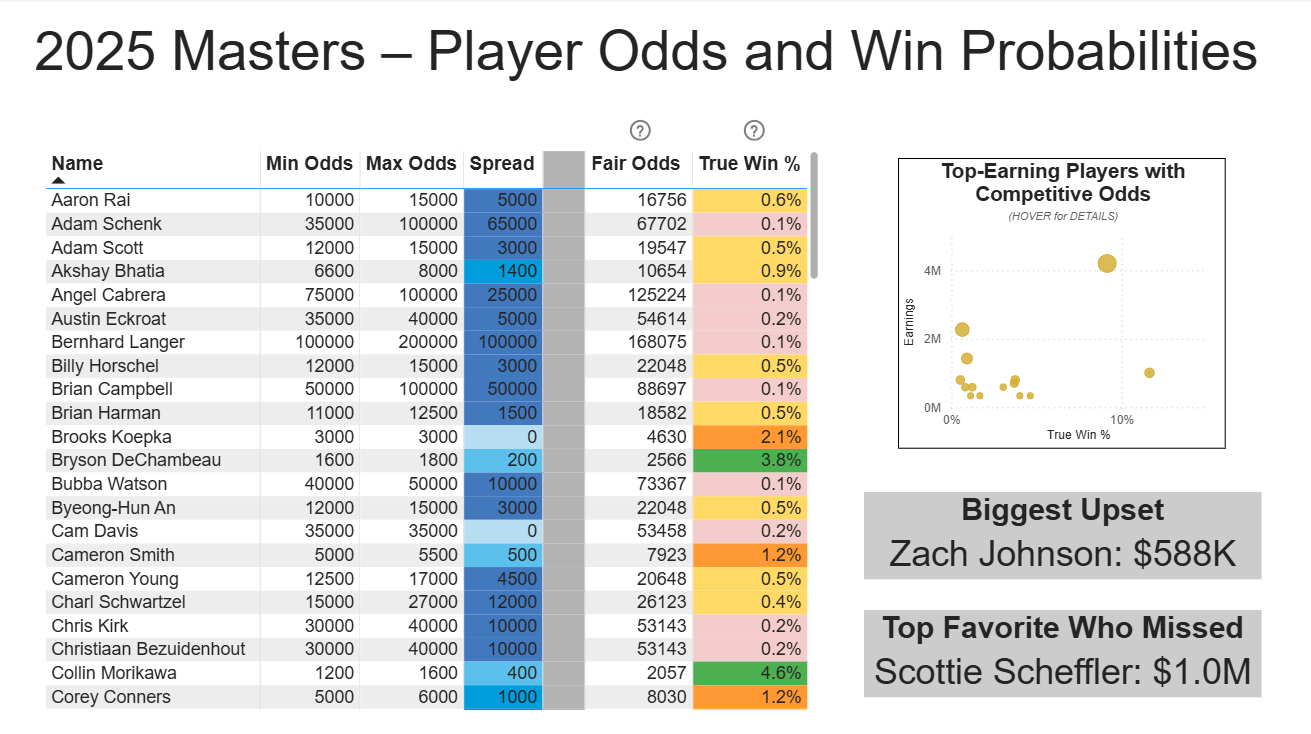

What the dashboard file says about the page in this screenshot:
{"tool":"powerbi","page":{"name":"Odds","canvas":[1280,720],"ordinal":0},"visuals":[{"type":"tableEx","fields":{"Values":["Dim_Players.Name","Fact_Odds_Masters2025.MinOdds","Fact_Odds_Masters2025.MaxOdds","Fact_Odds_Masters2025.OddsSpread","Fact_Odds_Masters2025.Spacer","Fact_Odds_Masters2025.DeViggedOddsToWin","Fact_Odds_Masters2025.DeViggedWinProbability"]},"box":[41,144,763,553.8],"z":0},{"type":"textbox","box":[30.2,16.5,1219.7,80.8],"z":1000},{"type":"actionButton","box":[610.7,113.1,29.8,30.8],"z":2000},{"type":"actionButton","box":[721.7,113.1,29.8,30.8],"z":3000},{"type":"scatterChart","title":"Top-Earning Players with Competitive Odds","fields":{"X":["Summary_PlayerEarningsVsProbability.AdjustedProbabilityToWin"],"Y":["Summary_PlayerEarningsVsProbability.Earnings"],"Size":["Summary_PlayerEarningsVsProbability.Earnings"],"Series":["Dim_Players.Name"]},"box":[876.5,155.5,319.5,282.7],"z":4000},{"type":"card","title":"Biggest Upset","fields":{"Values":["~MeasuresTable.Biggest Upset Player Summary"]},"box":[842.8,481.3,386.7,85.1],"z":5000},{"type":"card","title":"Top Favorite Who Missed","fields":{"Values":["~MeasuresTable.Biggest Underperformance Player Summary"]},"box":[842.8,595.9,386.7,85.1],"z":6000}]}

Visuals, with their boxes in screenshot pixels (x1, y1, x2, y2), scaled from the page's 1280x720 canvas onto the 1311x734 screenshot:
tableEx - Dim_Players.Name x Fact_Odds_Masters2025.MinOdds: <region>42, 147, 823, 711</region>
textbox: <region>31, 17, 1280, 99</region>
actionButton: <region>625, 115, 656, 147</region>
actionButton: <region>739, 115, 770, 147</region>
"Top-Earning Players with Competitive Odds" scatterChart: <region>898, 159, 1225, 447</region>
"Biggest Upset" card: <region>863, 491, 1259, 577</region>
"Top Favorite Who Missed" card: <region>863, 607, 1259, 694</region>
